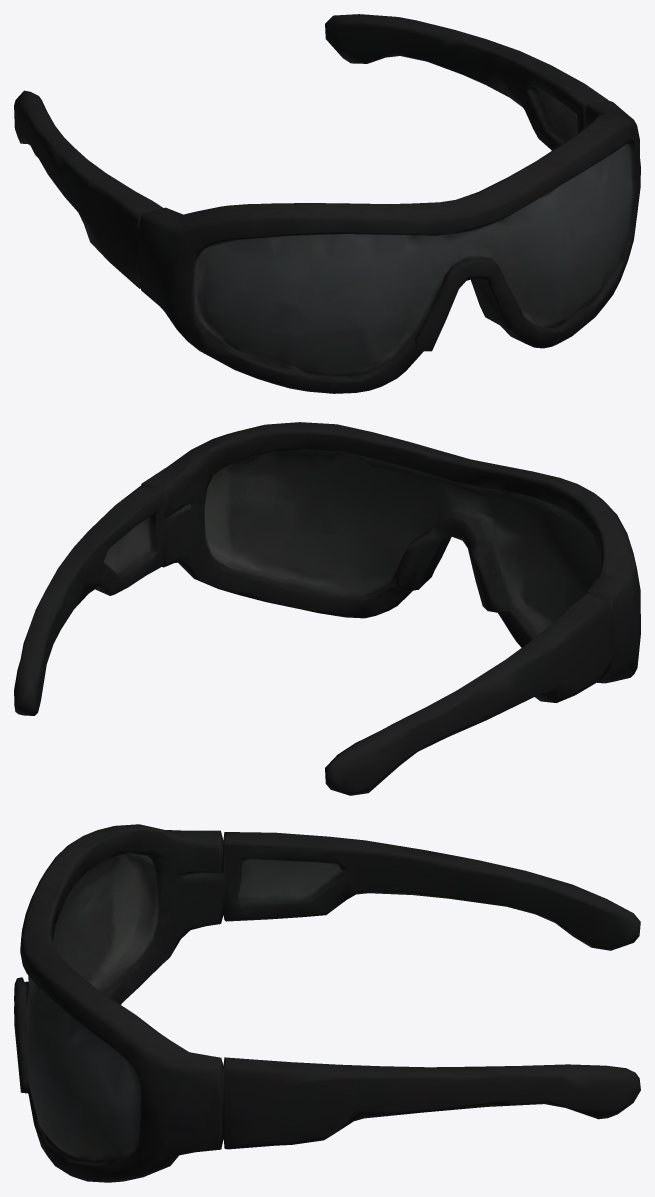
Rendered from glasses-sport.glb.
3 views of the same model, one above another, from view 1: azimuth 30°, elevation 25°; view 2: azimuth 150°, elevation 25°; view 3: azimuth 270°, elevation 25° (orthographic). The views are drawn at different scales.
Visible parts, largest first — view 1: glasses-sport; view 2: glasses-sport; view 3: glasses-sport.
Part boxes in pixels (x1,y1,x2,y2): glasses-sport: (14, 14, 640, 393); glasses-sport: (14, 422, 640, 795); glasses-sport: (14, 824, 640, 1182).
Size of the model in its own units: 0.9208 by 0.3415 by 1.
1 material, 1 textured.
